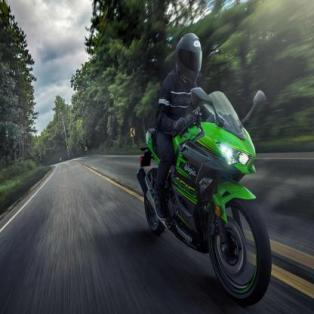Motocicleta: (143, 100, 273, 308)
